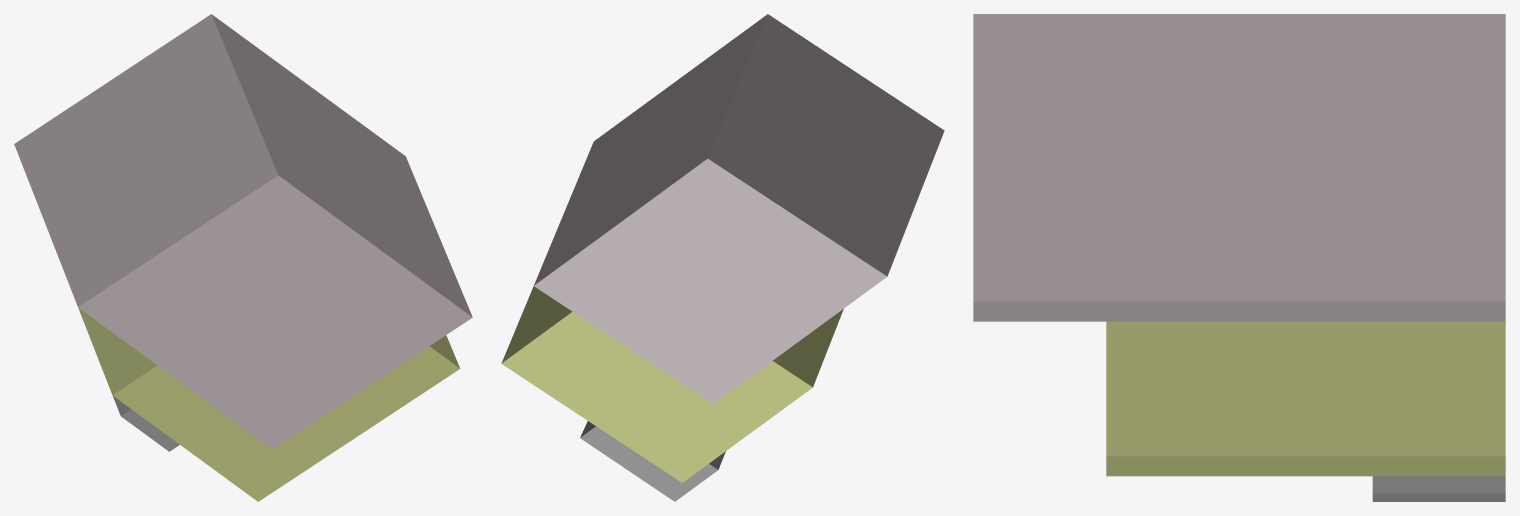
3 renders of one model, left to right at view 1: azimuth 30°, elevation 25°; view 2: azimuth 150°, elevation 25°; view 3: azimuth 270°, elevation 25°, orthographic. The views are drawn at different scales.
Parts seen in each view (by area): view 1: 0_1_3_2_2_2_2_0_3_2_3; view 2: 0_1_3_2_2_2_2_0_3_2_3; view 3: 0_1_3_2_2_2_2_0_3_2_3.
Part boxes in pixels (box(x1,y1,x2,y2)): 0_1_3_2_2_2_2_0_3_2_3: box(14, 14, 472, 501); 0_1_3_2_2_2_2_0_3_2_3: box(501, 14, 944, 501); 0_1_3_2_2_2_2_0_3_2_3: box(973, 14, 1505, 501).
Size of the model in its own units: 10.71 by 12.95 by 12.
